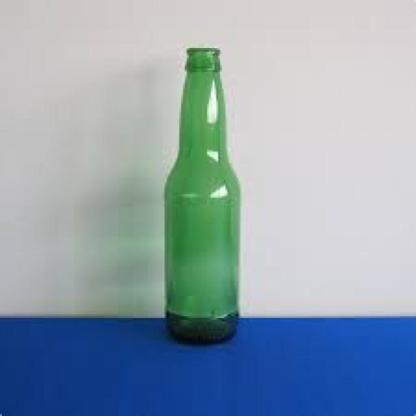Can: (163, 47, 241, 345)
